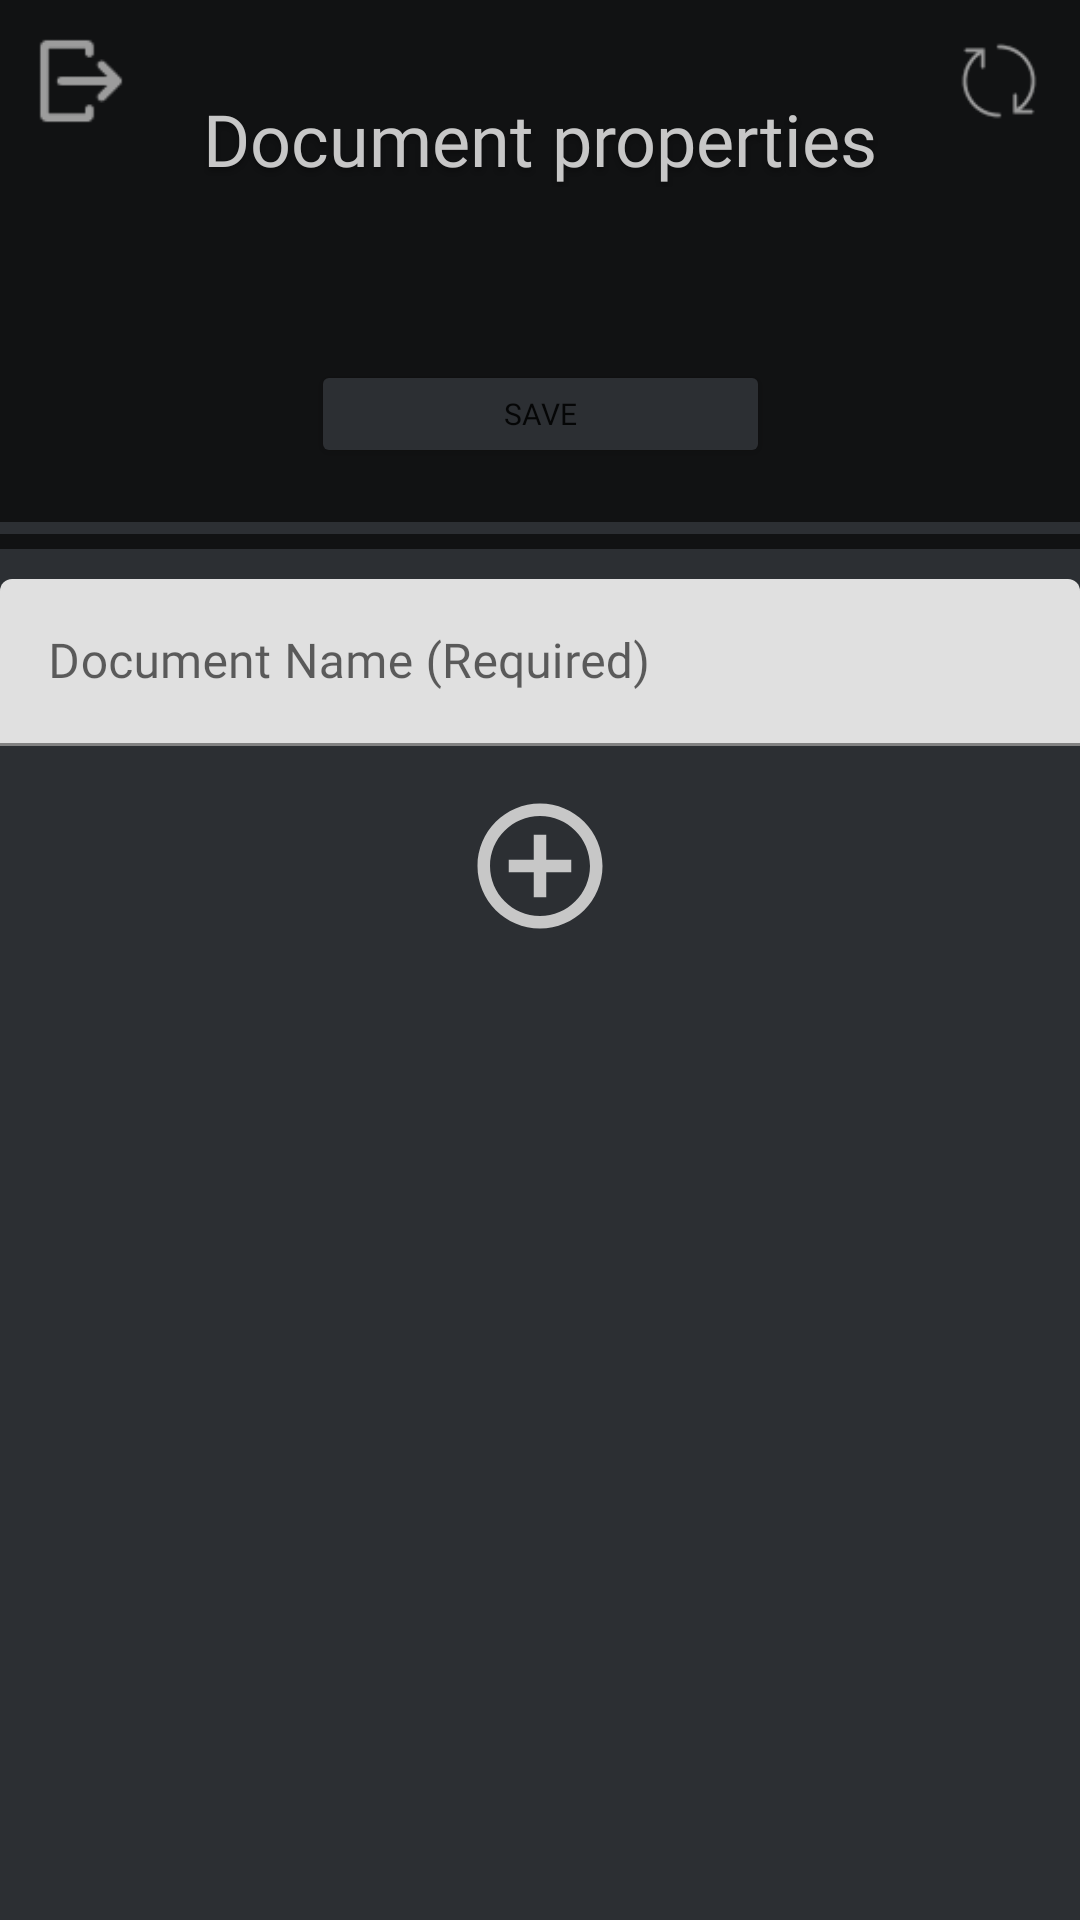

Icon click points for this 1080px×1920px phone screenshot, format point (x, y):
add: point (540, 866)
synchronize: point (999, 81)
